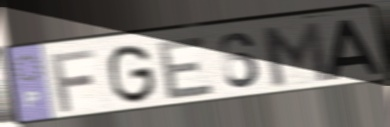6: (218, 31, 263, 91)
A: (325, 17, 385, 82)
E: (156, 33, 218, 102)
F: (47, 47, 98, 114)
G: (107, 42, 159, 106)
M: (258, 19, 333, 89)
